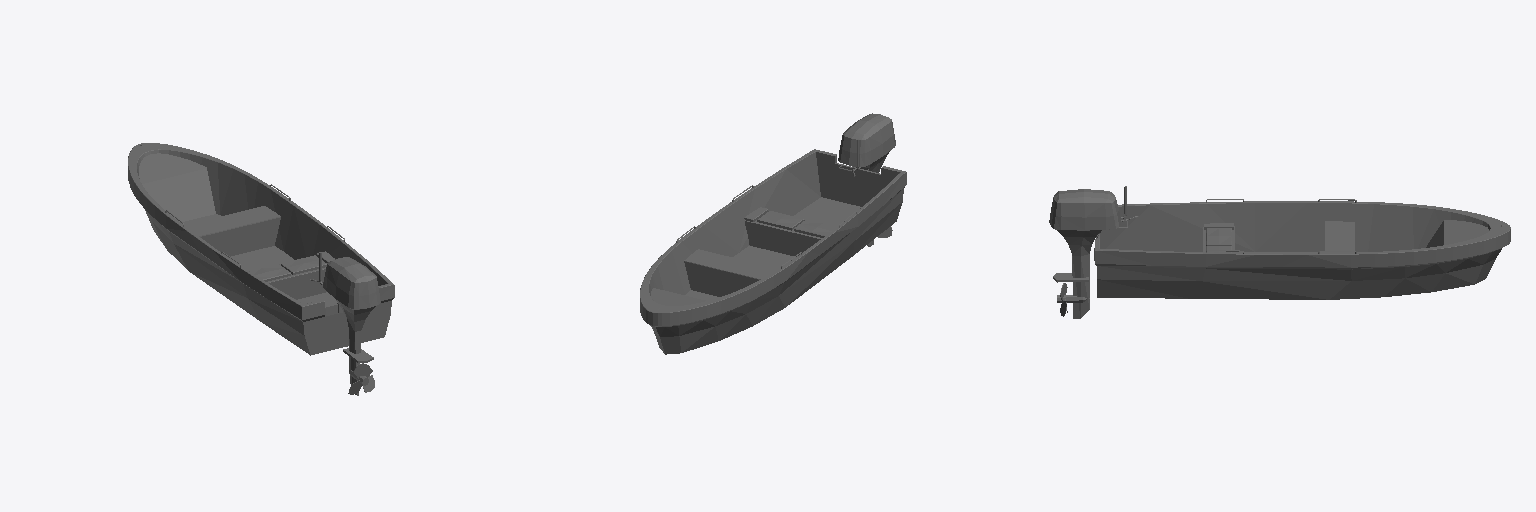
Rendered from simple_boat.obj.
3 views of the same model, side by side, from view 1: azimuth 30°, elevation 25°; view 2: azimuth 150°, elevation 25°; view 3: azimuth 270°, elevation 25° (orthographic).
Visible parts, largest first — view 1: boat01; view 2: boat01; view 3: boat01.
Boxes of the visible parts, x1=… form: boat01: x1=128, y1=143, x2=394, y2=395; boat01: x1=640, y1=113, x2=906, y2=354; boat01: x1=1049, y1=186, x2=1510, y2=318.
Bounding box in the file's own units: 0.721 × 0.7943 × 2.62.